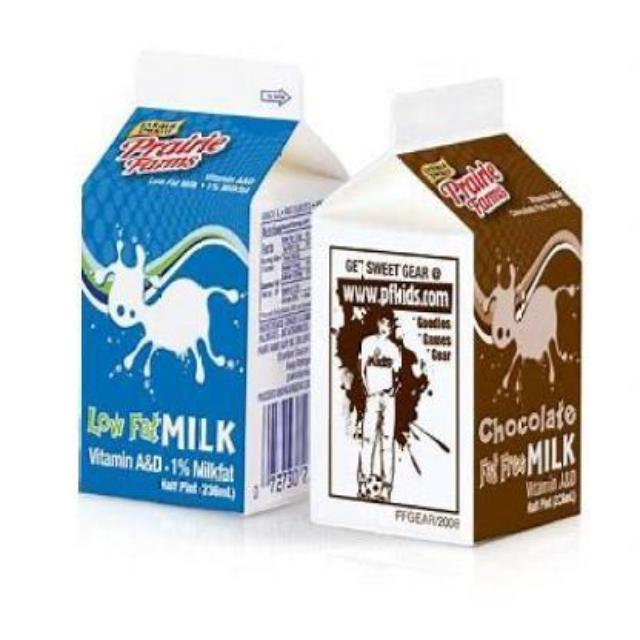caixinha: (306, 71, 594, 557), (77, 45, 329, 521)
